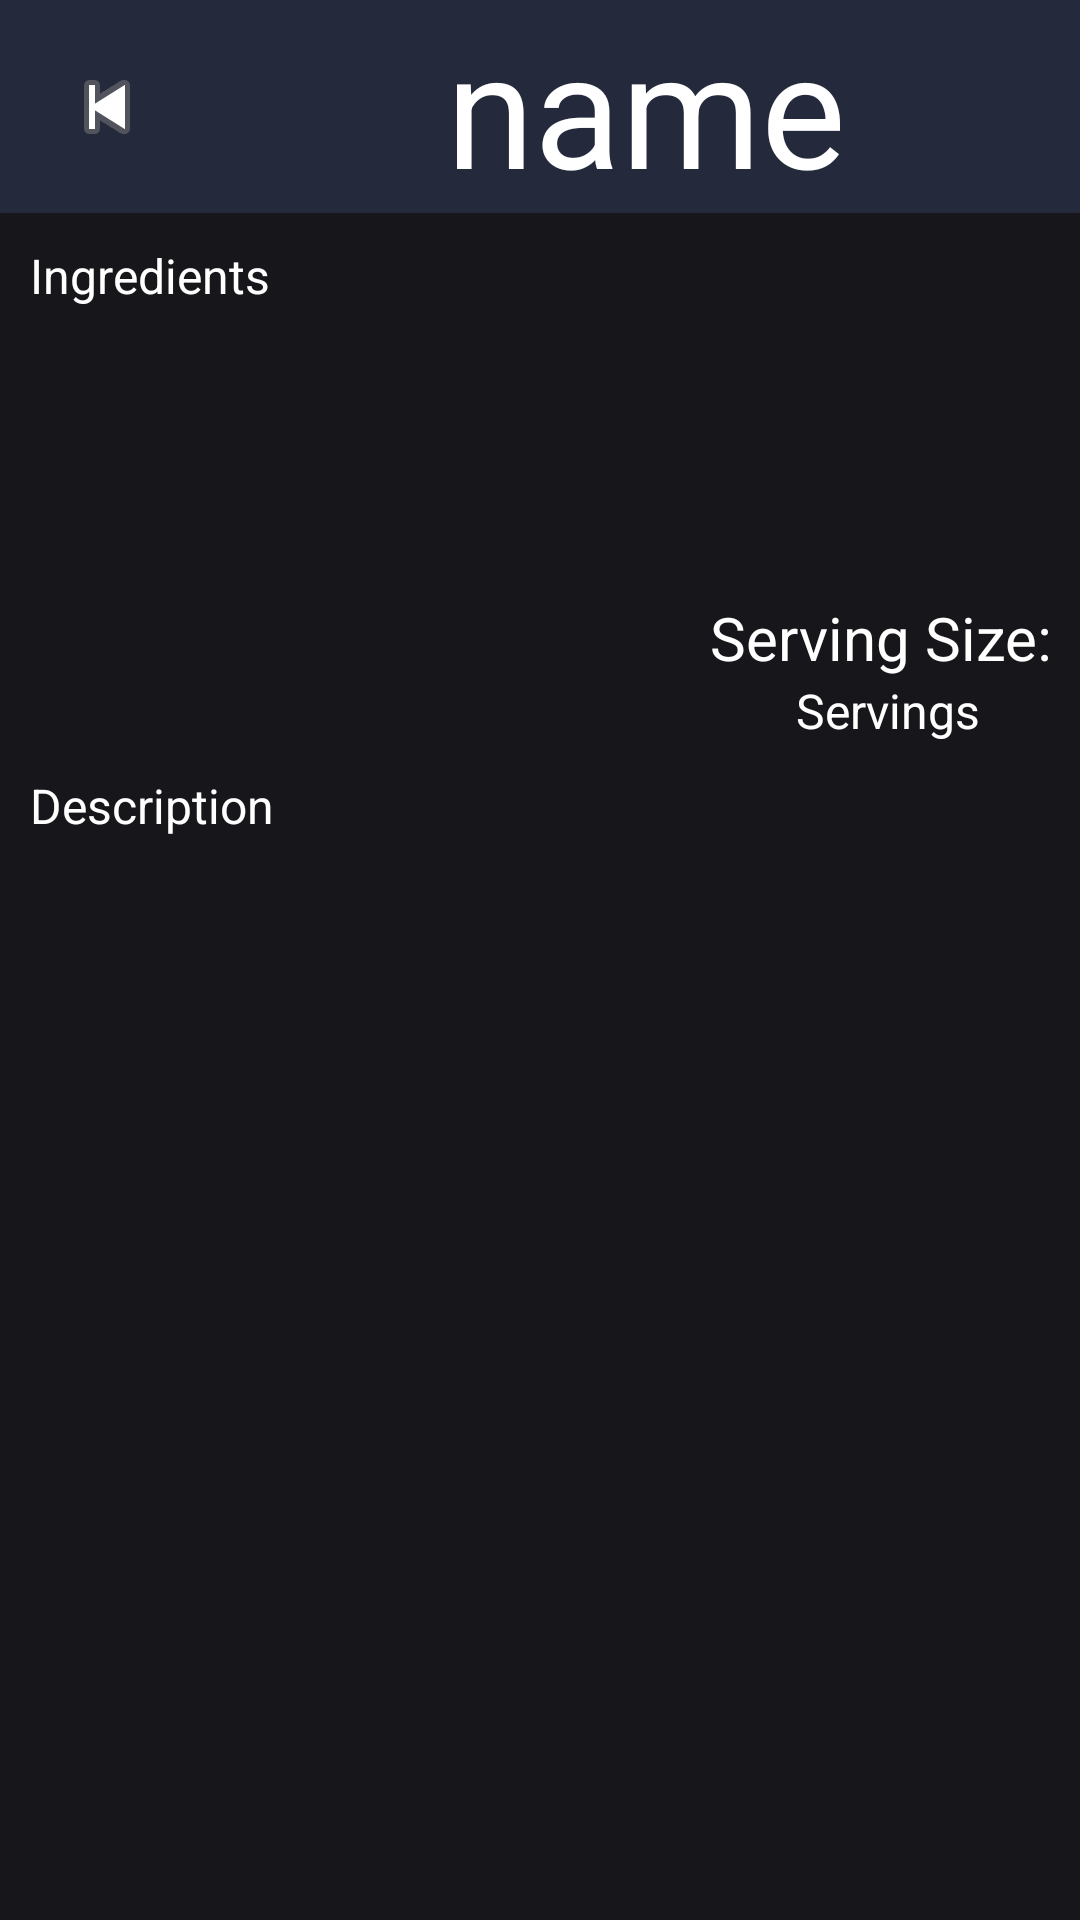

Icon click points for this 1080*1920 phone screenshot, format point (x, y):
previous: point (107, 107)
